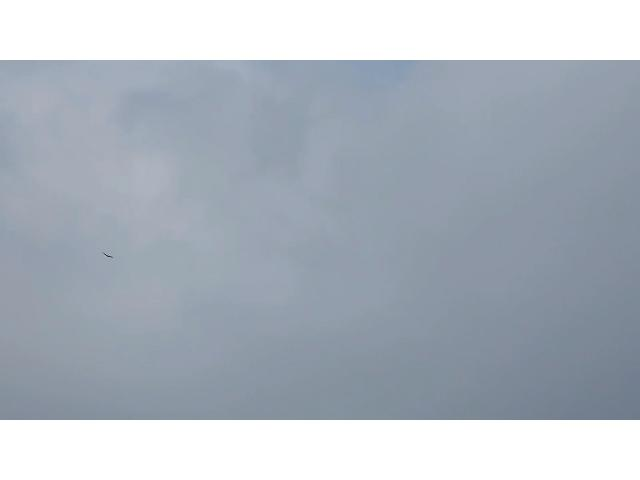Anti-Drone: (102, 252, 114, 258)
